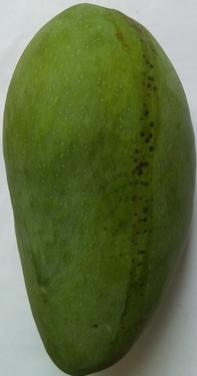Unripe: (0, 1, 197, 376)
